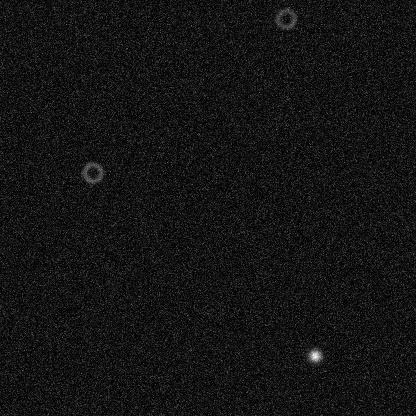Ring: (273, 6, 297, 30), (80, 160, 104, 184)
Spot: (306, 347, 322, 363)
